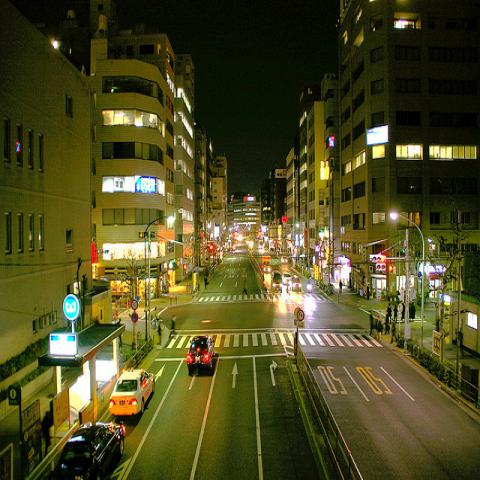car: (47, 420, 126, 479), (108, 368, 155, 417), (186, 336, 216, 376), (271, 268, 282, 293), (290, 276, 303, 291), (282, 272, 291, 286), (281, 256, 289, 263)
truck: (261, 254, 271, 273)
